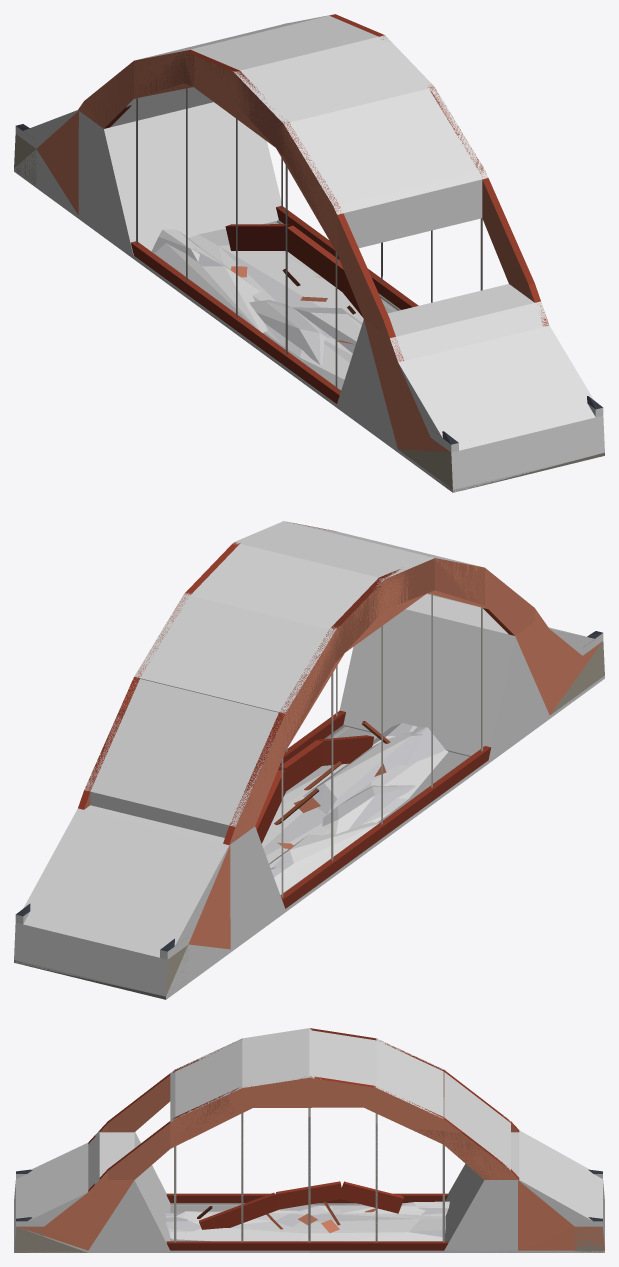
File: bld_bridge_b.glb
3 renders of one model, top to bottom at view 1: azimuth 30°, elevation 25°; view 2: azimuth 150°, elevation 25°; view 3: azimuth 270°, elevation 25°, orthographic. The views are drawn at different scales.
Parts seen in each view (by area): view 1: chunk_00, chunk_04, damaged, chunk_02, rubble, chunk_05, chunk_01, chunk_03, chunk_06, chunk_07; view 2: chunk_03, chunk_01, chunk_07, damaged, chunk_06, rubble, chunk_05, chunk_02, chunk_00, chunk_04, intact; view 3: damaged, rubble, chunk_05, chunk_03, chunk_01, chunk_00, chunk_04, chunk_06, chunk_02, chunk_07, intact.
Part boxes in pixels (x1,y1,x2,y2): chunk_00: (397, 325, 604, 492); chunk_04: (276, 79, 488, 252); damaged: (15, 49, 604, 492); chunk_02: (78, 102, 281, 257); rubble: (152, 224, 363, 379); chunk_05: (193, 19, 426, 146); chunk_01: (336, 284, 549, 451); chunk_03: (14, 110, 78, 217); chunk_06: (134, 14, 337, 98); chunk_07: (84, 77, 213, 127); chunk_03: (14, 808, 230, 999); chunk_01: (339, 594, 549, 759); chunk_07: (84, 678, 284, 839); damaged: (14, 523, 604, 998); chunk_06: (134, 585, 344, 751); rubble: (255, 721, 448, 894); chunk_05: (200, 524, 426, 652); chunk_02: (85, 805, 285, 951); chunk_00: (548, 627, 604, 718); chunk_04: (276, 521, 487, 608); intact: (85, 522, 336, 790); damaged: (14, 1028, 604, 1252); rubble: (165, 1181, 449, 1241); chunk_05: (252, 1028, 363, 1107); chunk_03: (518, 1130, 604, 1252); chunk_01: (88, 1130, 170, 1252); chunk_00: (14, 1143, 88, 1252); chunk_04: (170, 1037, 252, 1148); chunk_06: (363, 1038, 443, 1144); chunk_02: (444, 1132, 517, 1252); chunk_07: (444, 1072, 510, 1179); intact: (175, 1076, 508, 1241).
Bounding box in the file's own units: 22 × 36.25 × 110.
